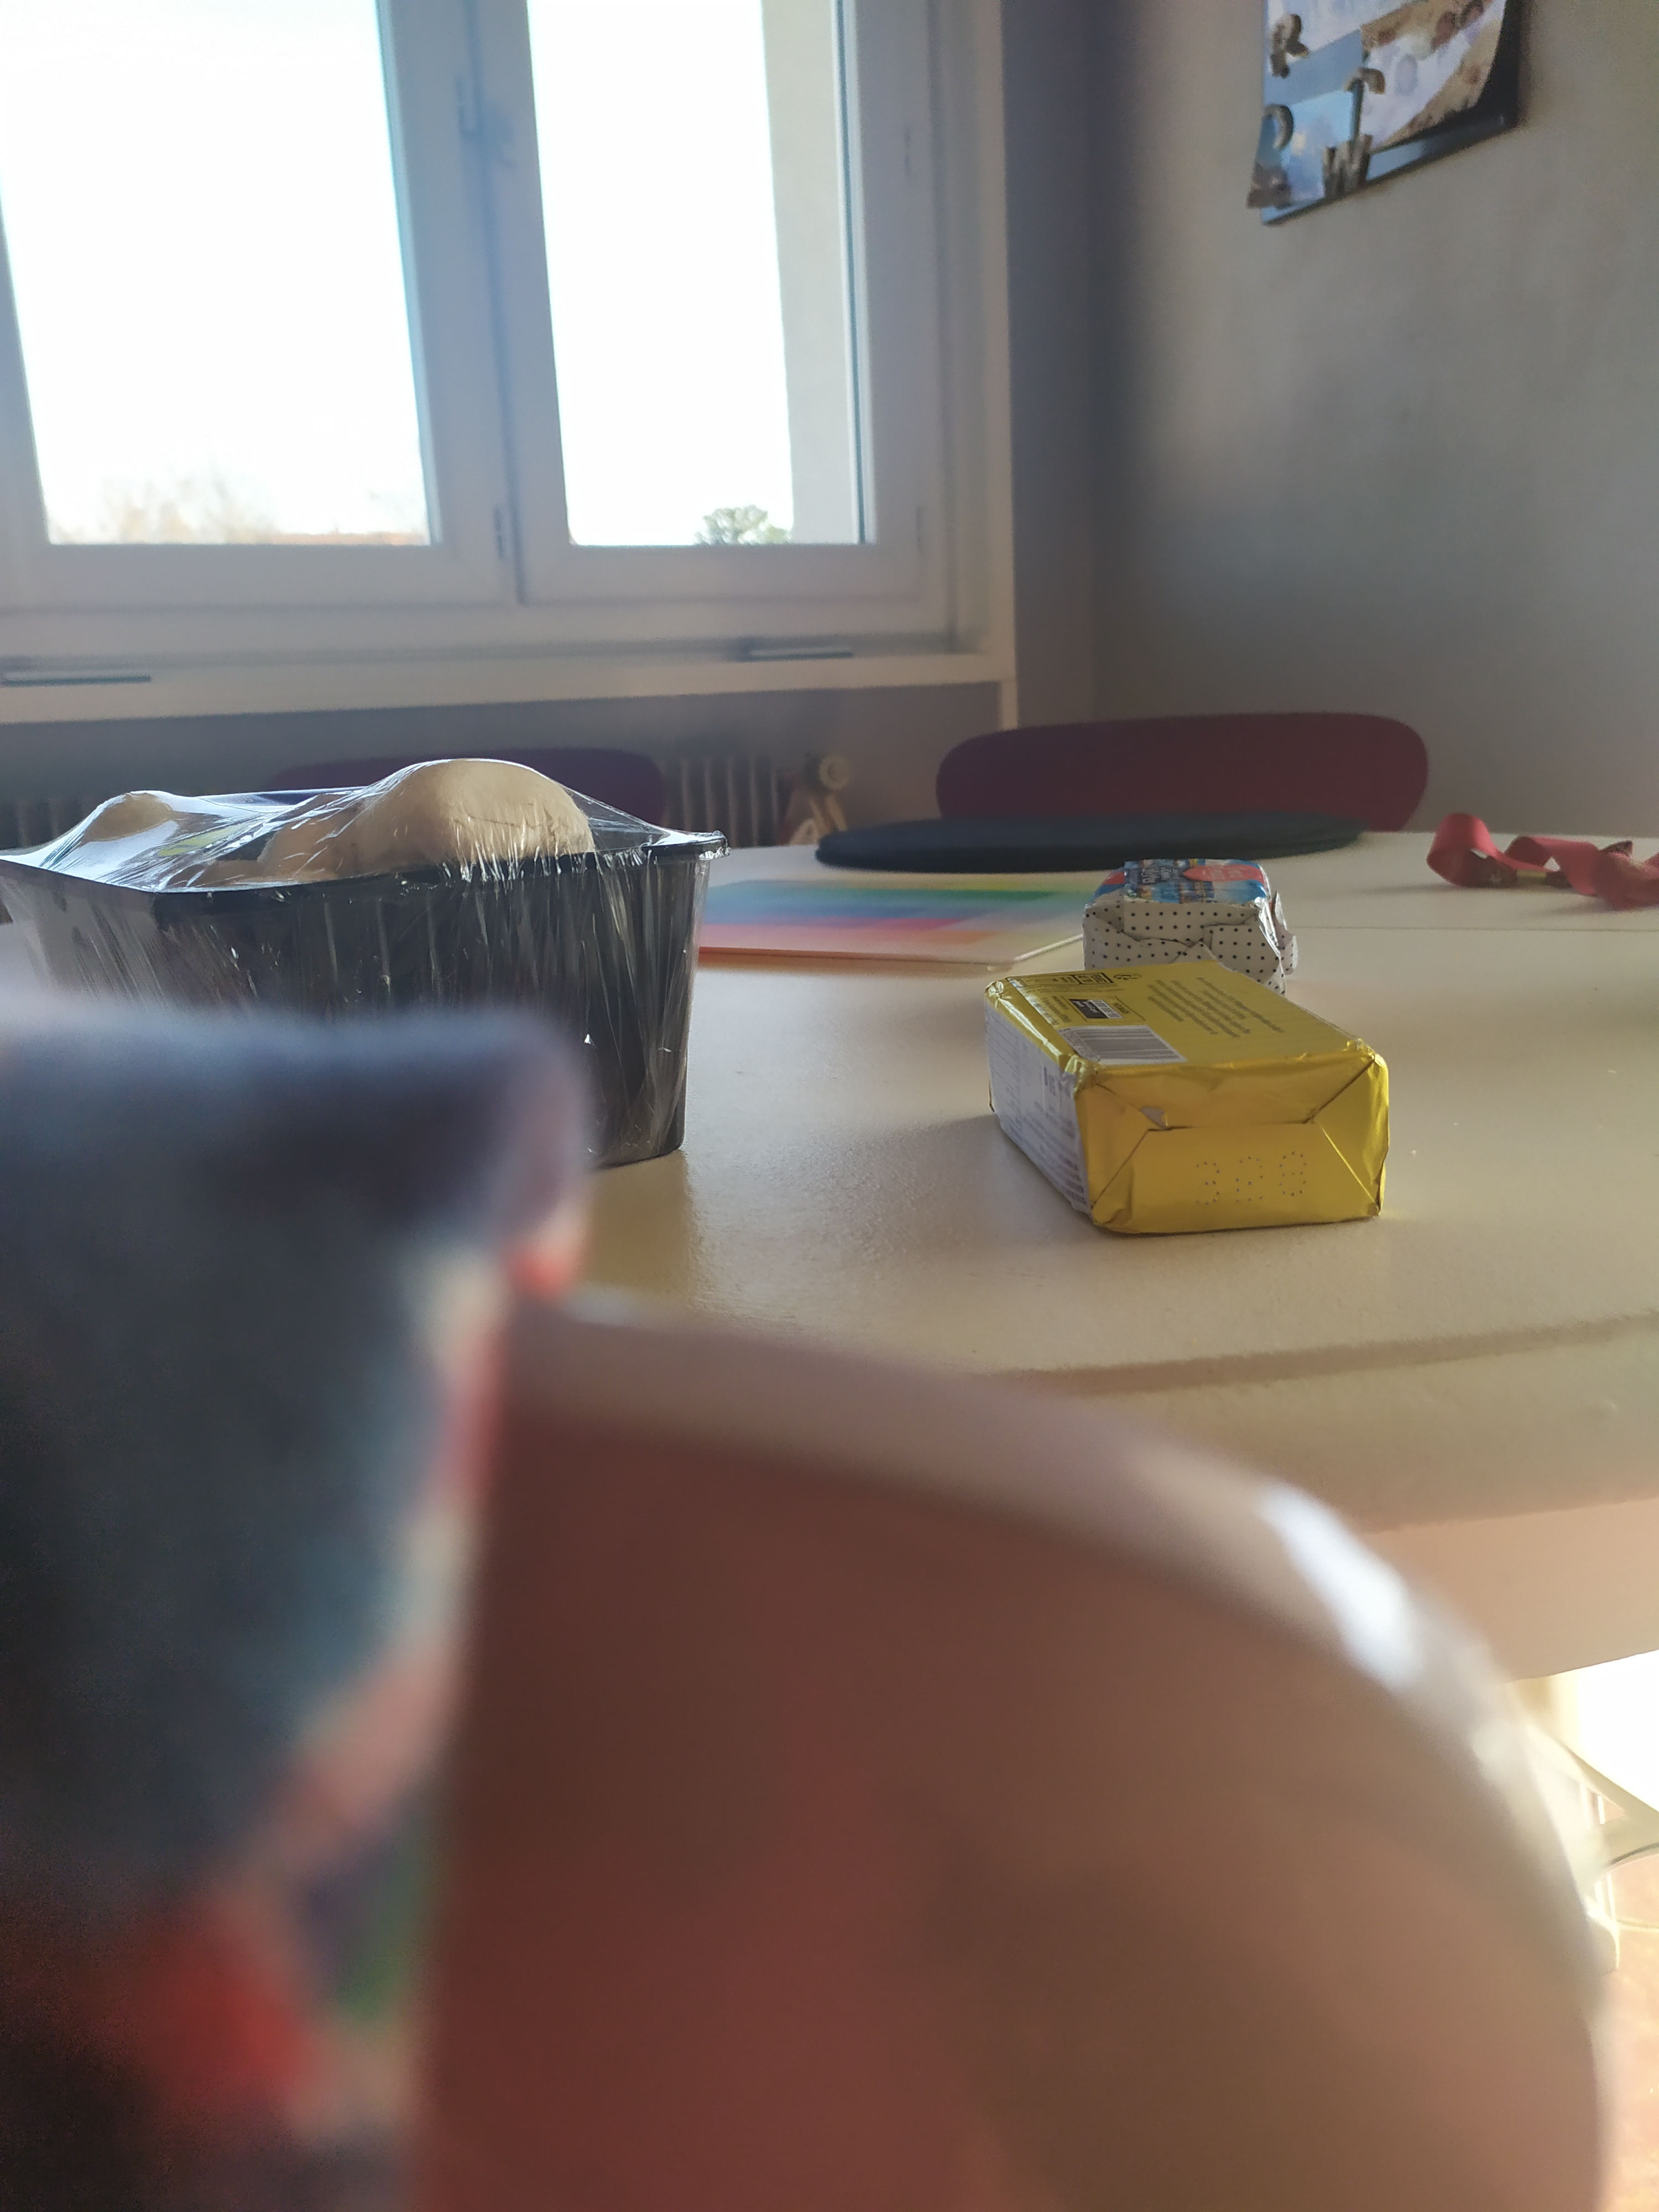butter: (990, 951, 1392, 1254), (1086, 845, 1312, 1000)
mushroom: (0, 751, 727, 1242)
